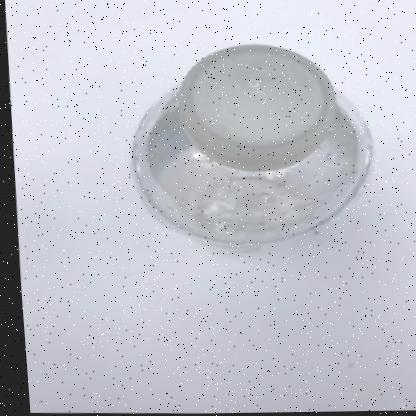Plastic: (131, 46, 368, 245)
